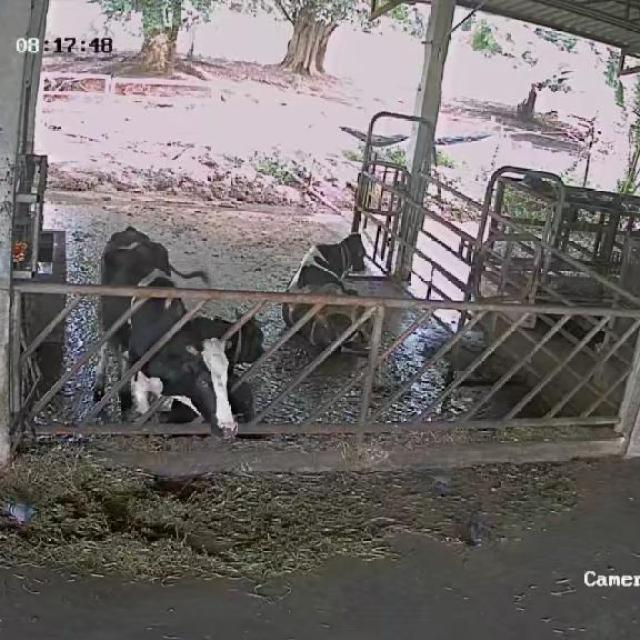feeding: (101, 228, 241, 448)
lying down: (283, 228, 378, 352), (206, 308, 266, 430)
